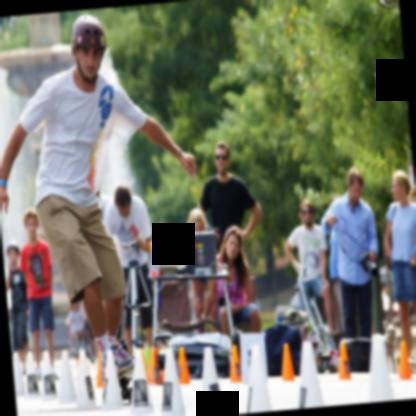backpack: (264, 324, 302, 377)
handbag: (384, 202, 398, 249)
suitcase: (167, 328, 235, 378), (337, 336, 371, 372)
